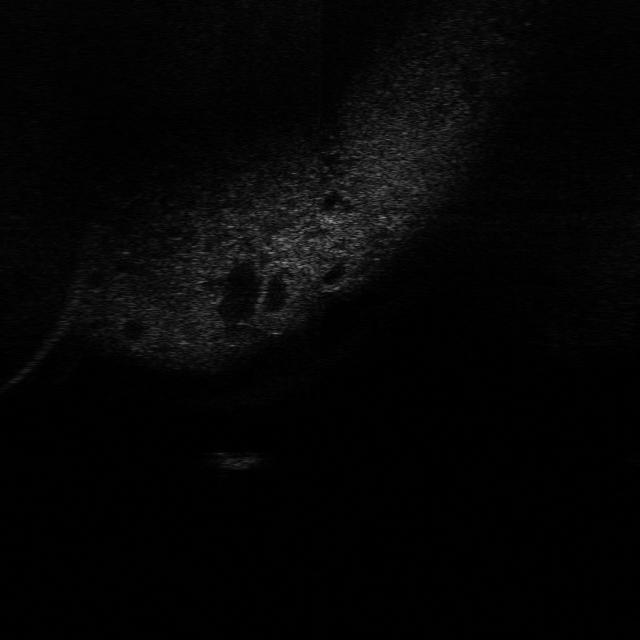ball: (257, 311, 292, 338)
cube: (198, 447, 271, 472)
